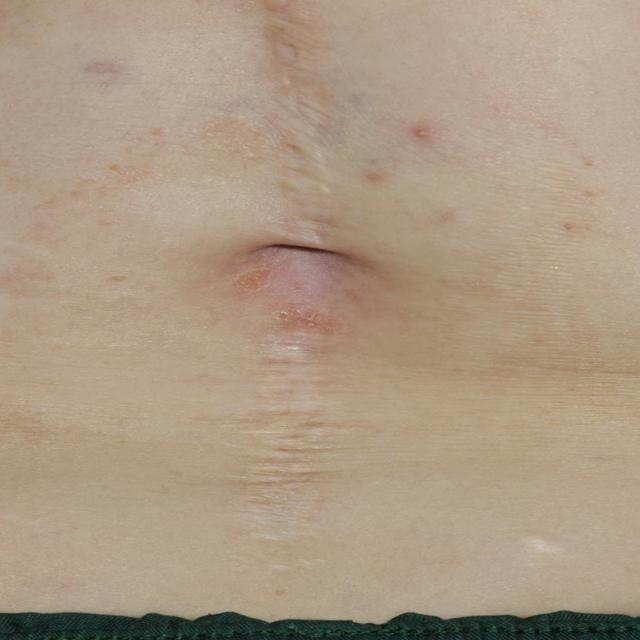wound: (190, 1, 412, 577)
